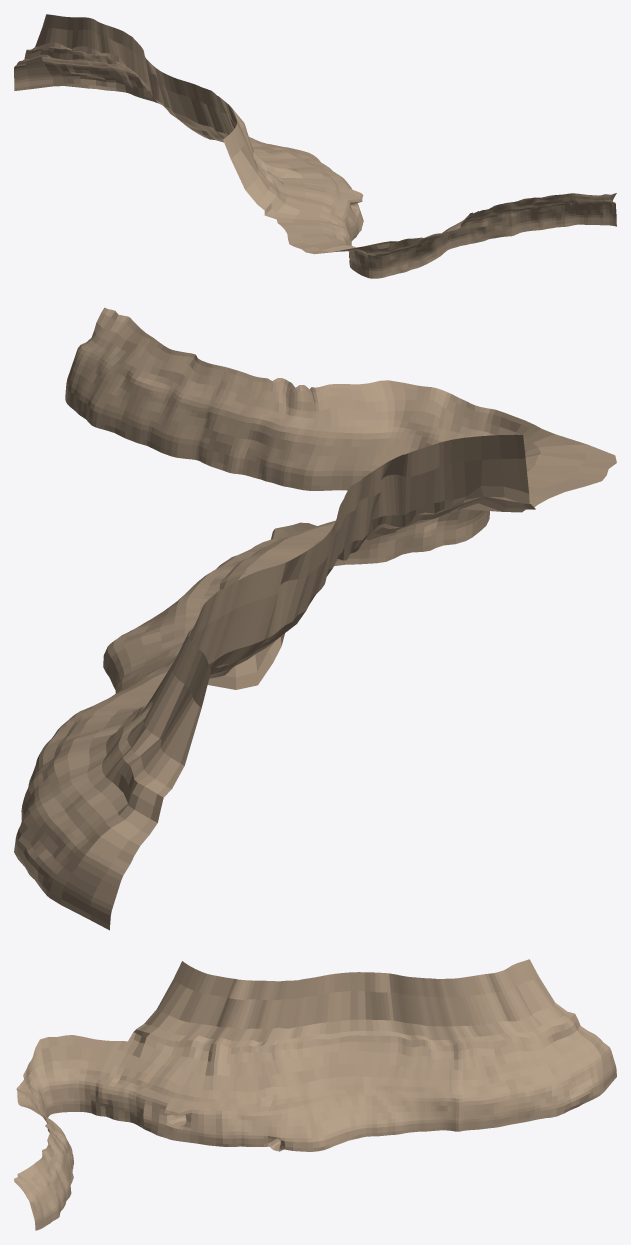
File: topo_04a.fbx
3 views of the same model, one above another, from view 1: azimuth 30°, elevation 25°; view 2: azimuth 150°, elevation 25°; view 3: azimuth 270°, elevation 25° (orthographic). The views are drawn at different scales.
Visible parts, largest first — view 1: mountain_01_Zbrush:pPlane2; view 2: mountain_01_Zbrush:pPlane2; view 3: mountain_01_Zbrush:pPlane2.
Boxes of the visible parts, bbox=[...] form: mountain_01_Zbrush:pPlane2: bbox=[14, 14, 616, 278]; mountain_01_Zbrush:pPlane2: bbox=[14, 307, 616, 930]; mountain_01_Zbrush:pPlane2: bbox=[14, 959, 616, 1230].
Size of the model in its own units: 1988 by 693 by 3180.
